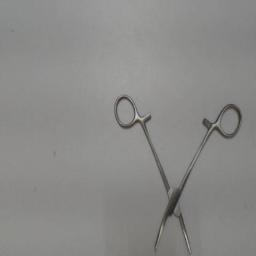Crile Artery Forceps: (111, 88, 245, 254)
